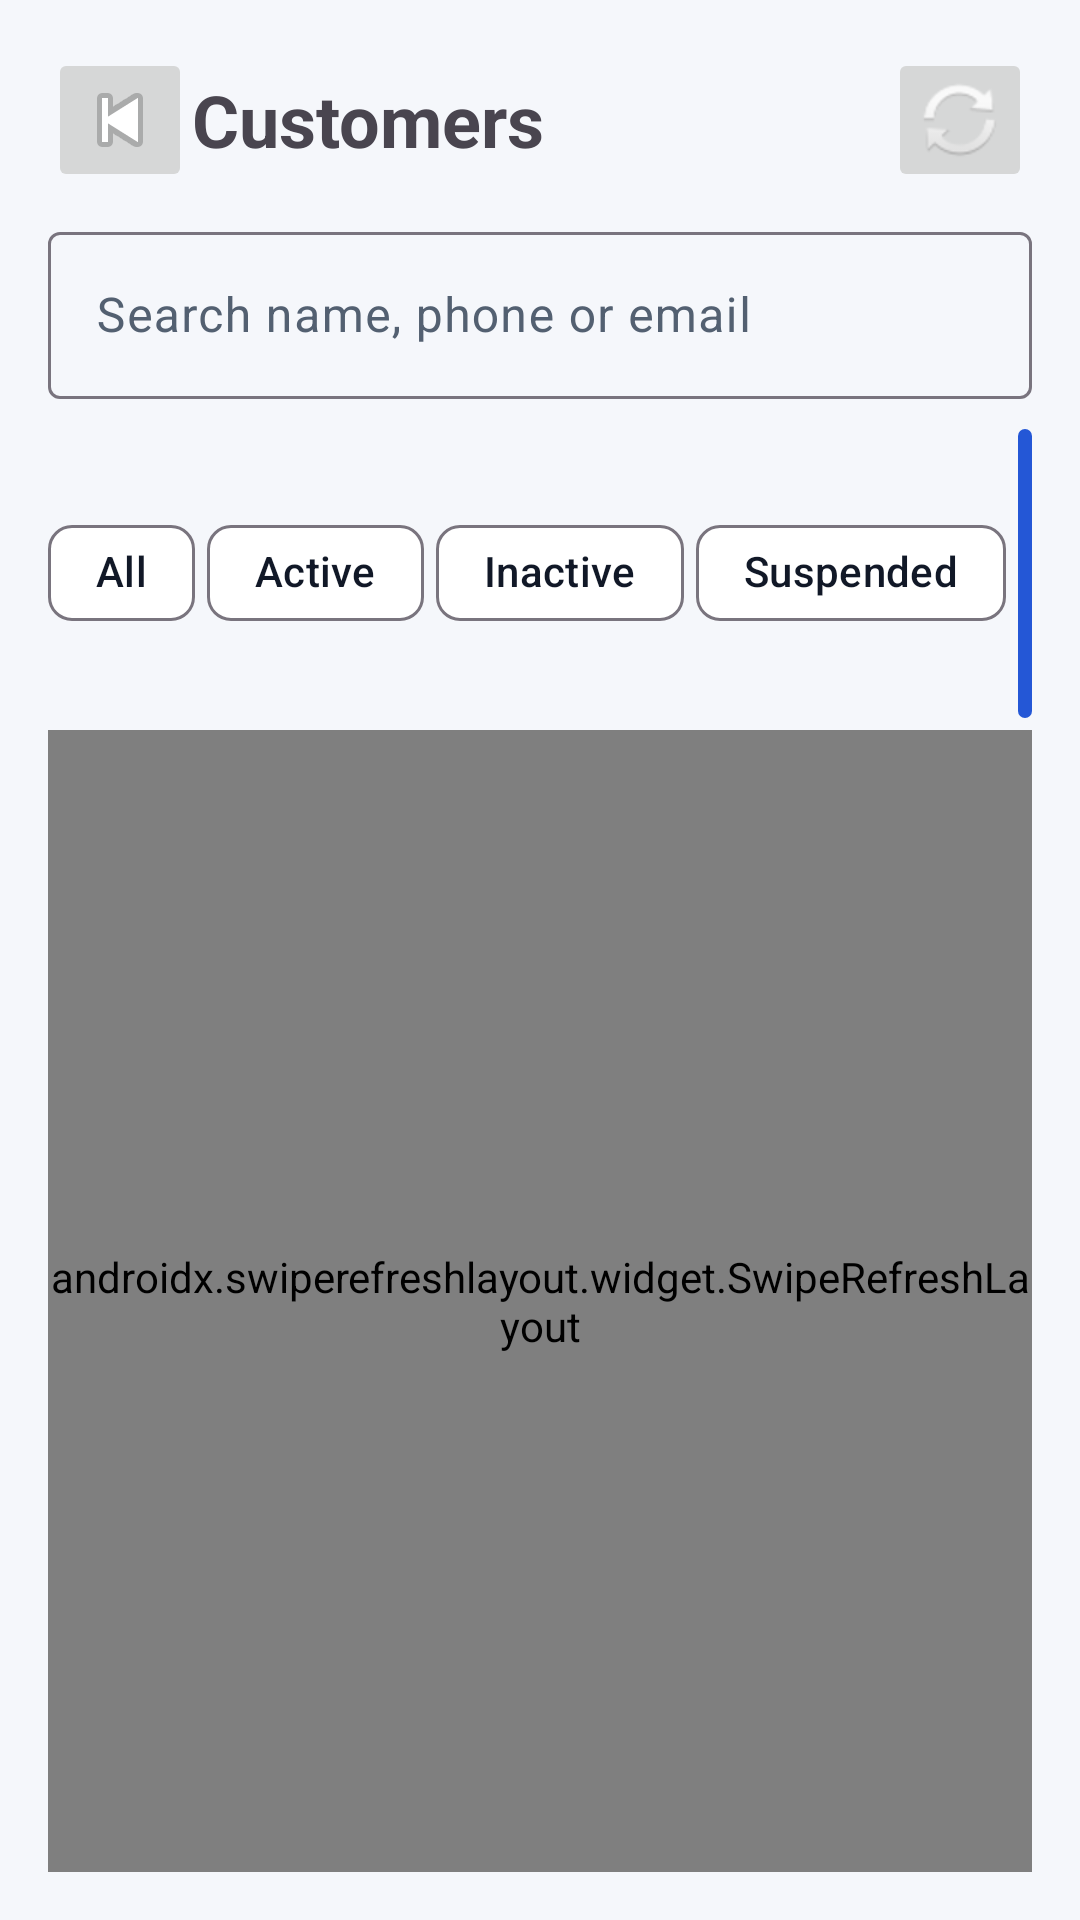

Point at icon controls on the screen. Image size 1080w x 1920h, points as (x=x, y=y).
Back: (x=120, y=120)
Refresh: (x=960, y=120)
